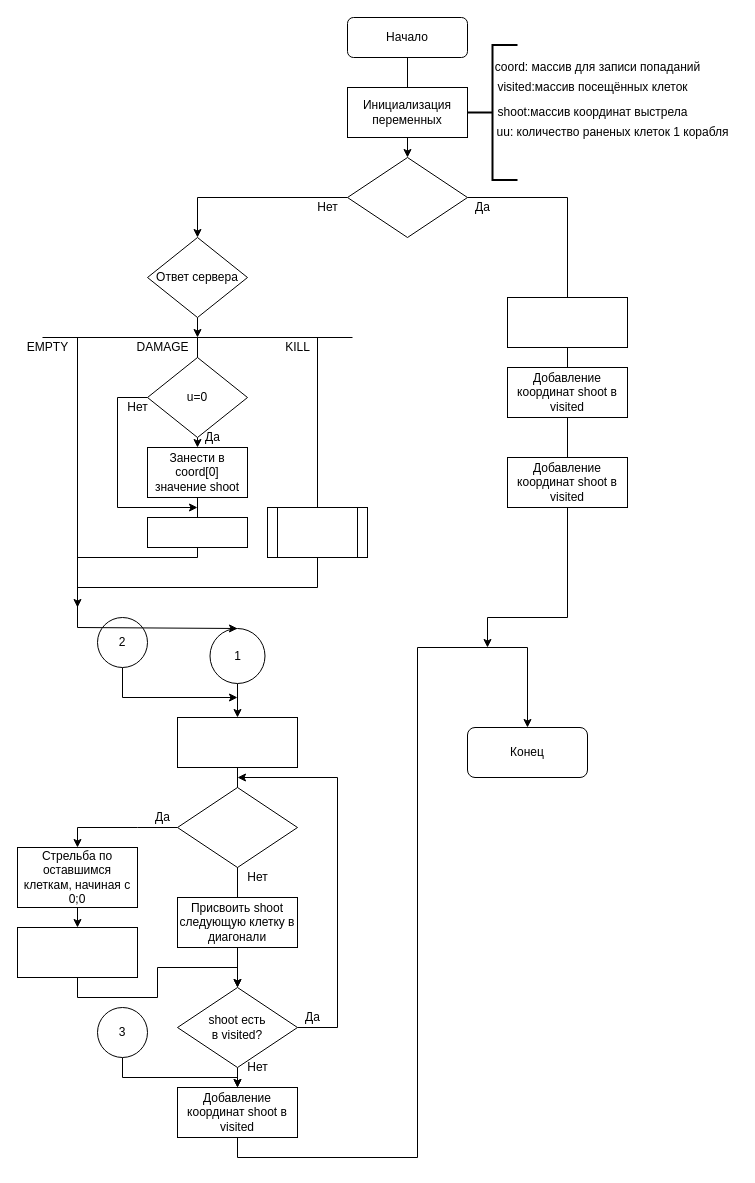
This 755x1183 diagram has some shape labels left out. Each missing label, with the box of its shape:
procedure vokrug(uu): (266, 506, 368, 558)
Все клетки диагоналей посещены?: (176, 786, 298, 868)
Первый выстрел?: (346, 156, 468, 238)
Прибавить к uu 1: (146, 516, 248, 548)
Присвоить shoot координаты 0;1: (506, 296, 628, 348)
Присвоить shoot следующую клетку: (16, 926, 138, 978)
Стрельба по диагоналям слева направо: (176, 716, 298, 768)
